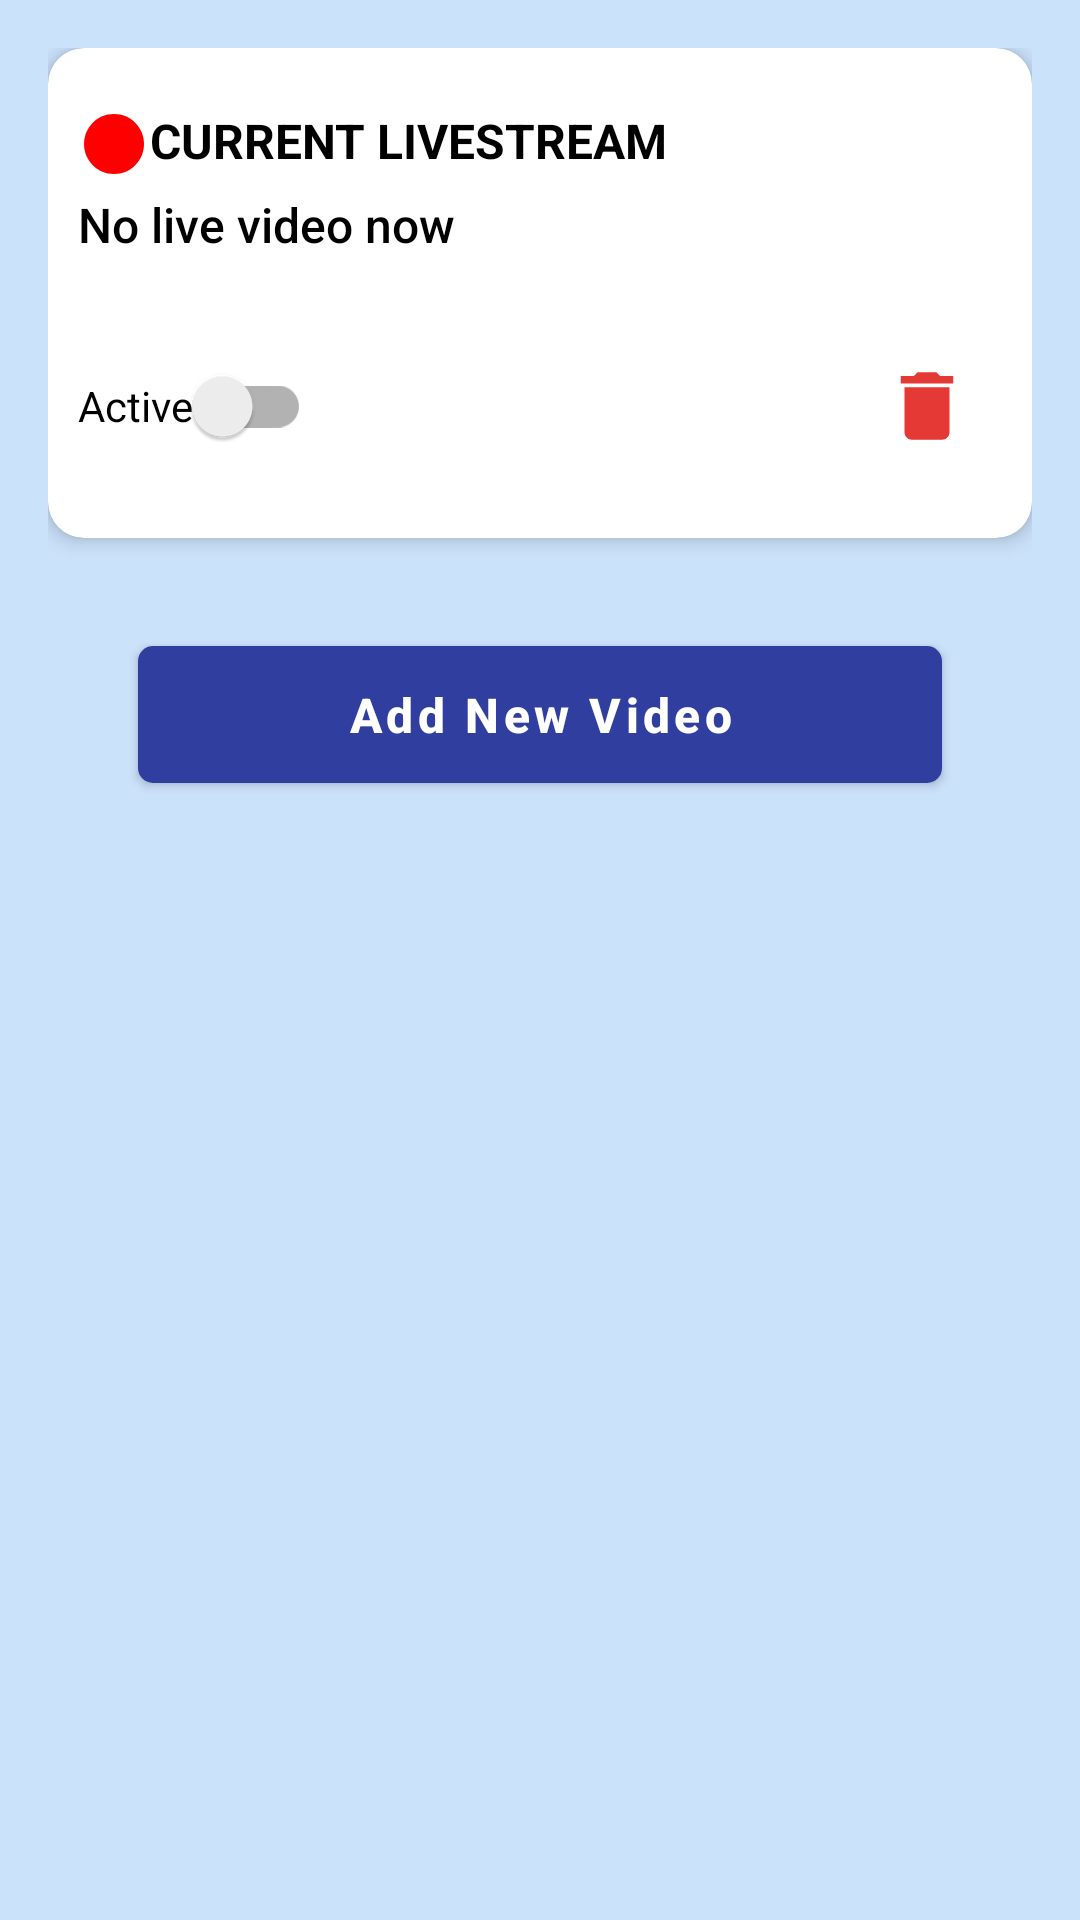

Icon bounding boxes for this 1080×1920 phone screenshot, format (x1, y1, x2, y2):
delete: (900, 372, 954, 440)
